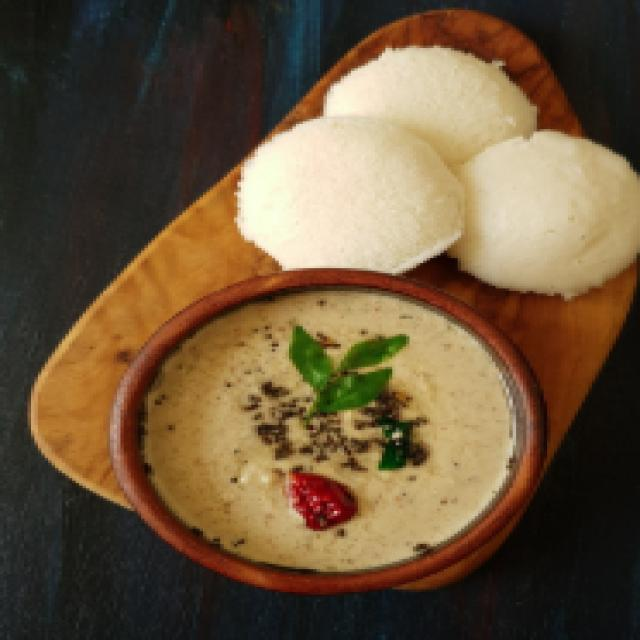peanut chutney: (162, 286, 494, 524)
